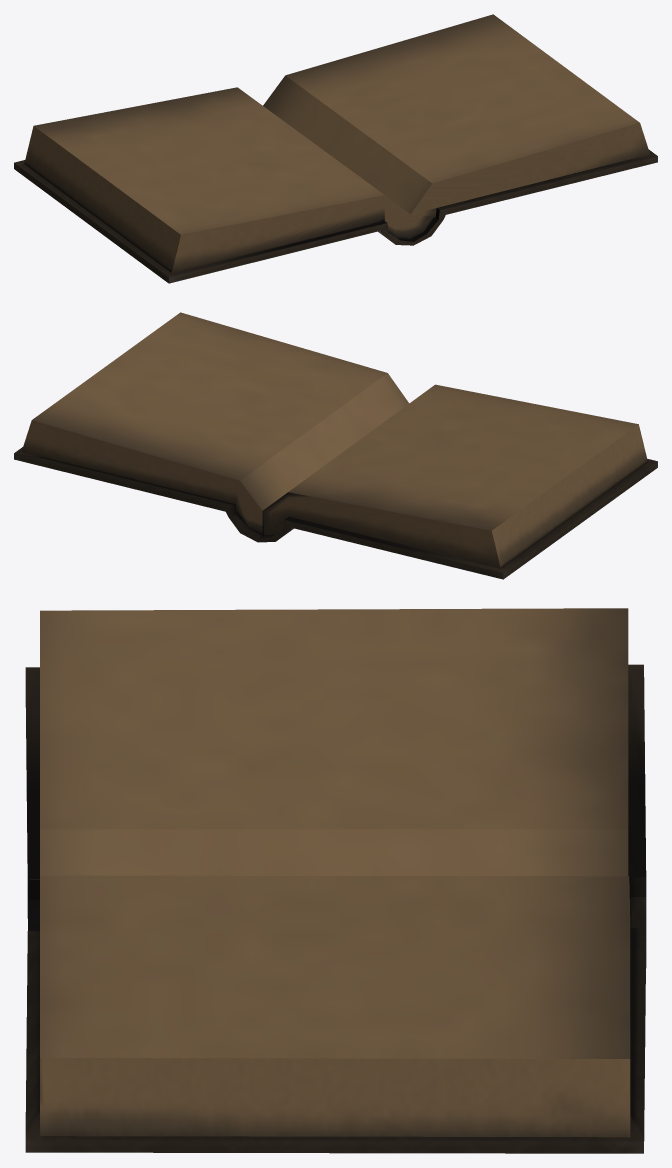
The model's file is open-books.fbx.
3 renders of one model, top to bottom at view 1: azimuth 30°, elevation 25°; view 2: azimuth 150°, elevation 25°; view 3: azimuth 270°, elevation 25°, orthographic. The views are drawn at different scales.
Visible parts, largest first — view 1: book10Open; view 2: book10Open; view 3: book10Open.
Part boxes in pixels (x1,y1,x2,y2): book10Open: (14, 14, 657, 283); book10Open: (14, 312, 657, 579); book10Open: (25, 608, 646, 1153).
Size of the model in its own units: 135 by 17.25 by 73.92.
